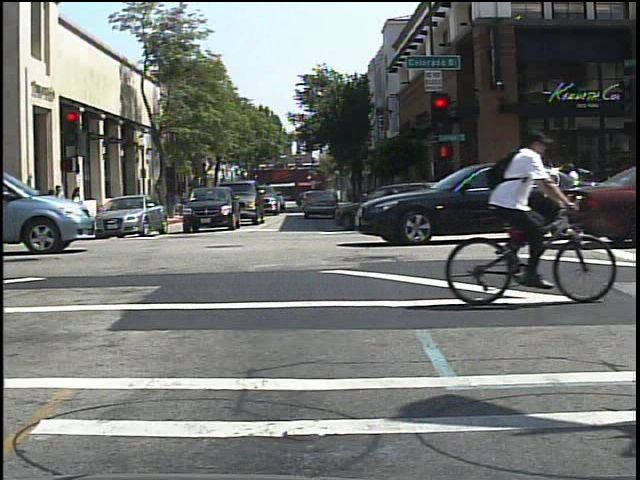person: (471, 121, 563, 300)
